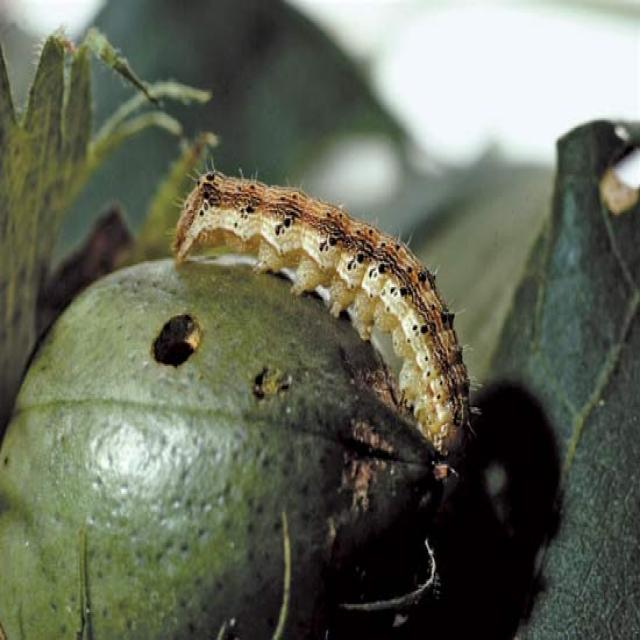Corn-earworm: (167, 164, 479, 461)
